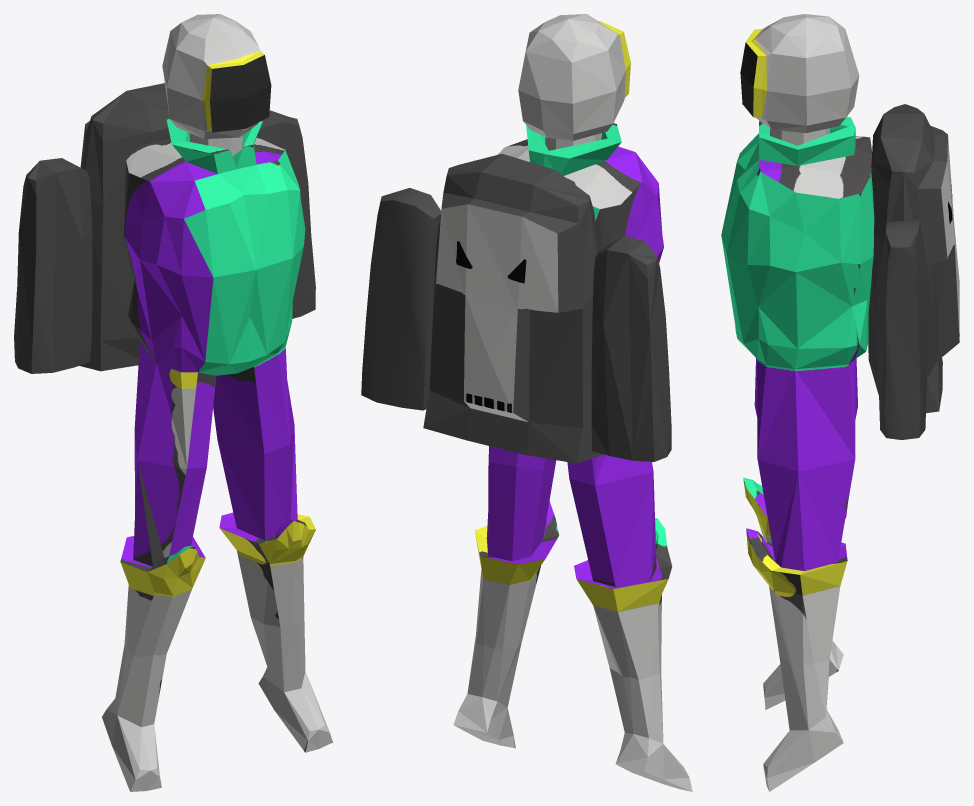
The model's file is dave_body_centered_fbx_02.fbx.
3 renders of one model, left to right at view 1: azimuth 30°, elevation 25°; view 2: azimuth 150°, elevation 25°; view 3: azimuth 270°, elevation 25°, orthographic. The views are drawn at different scales.
Visible parts, largest first — view 1: polySurface14; view 2: polySurface14; view 3: polySurface14.
Part boxes in pixels (x1=…): polySurface14: x1=14, y1=14, x2=332, y2=791; polySurface14: x1=361, y1=14, x2=692, y2=791; polySurface14: x1=721, y1=14, x2=959, y2=791.
Size of the model in its own units: 8.86 by 21.35 by 6.34.
